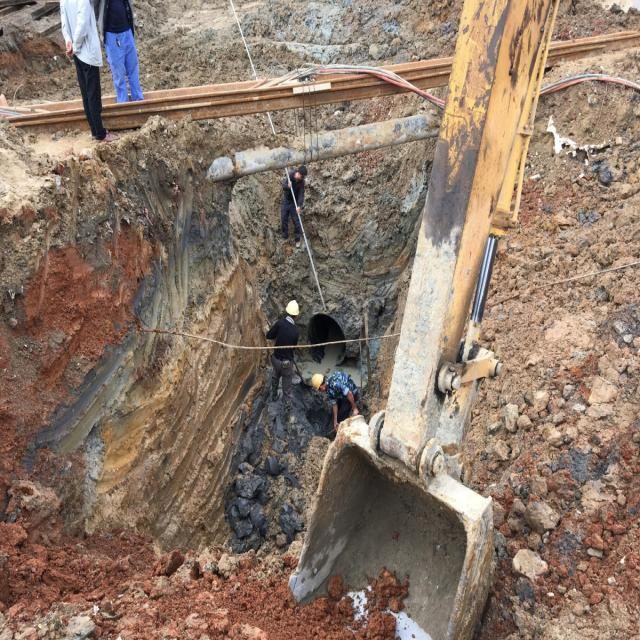excavator: (286, 0, 560, 639)
